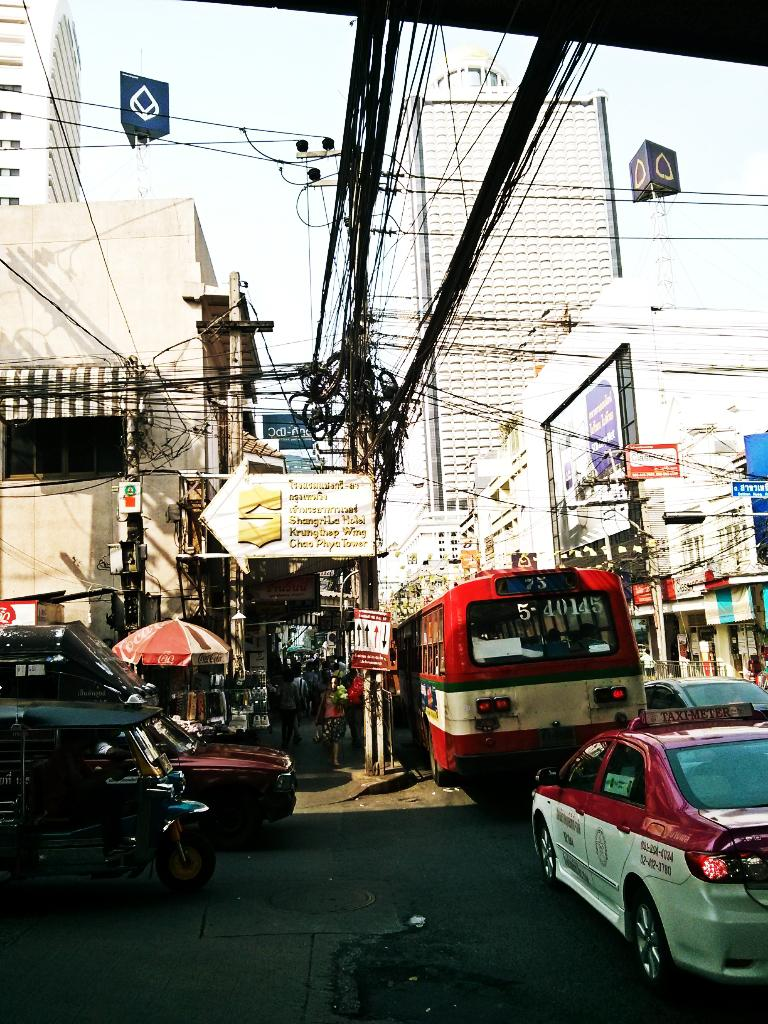Car: (528, 698, 767, 993), (0, 716, 298, 856), (642, 673, 767, 716)
